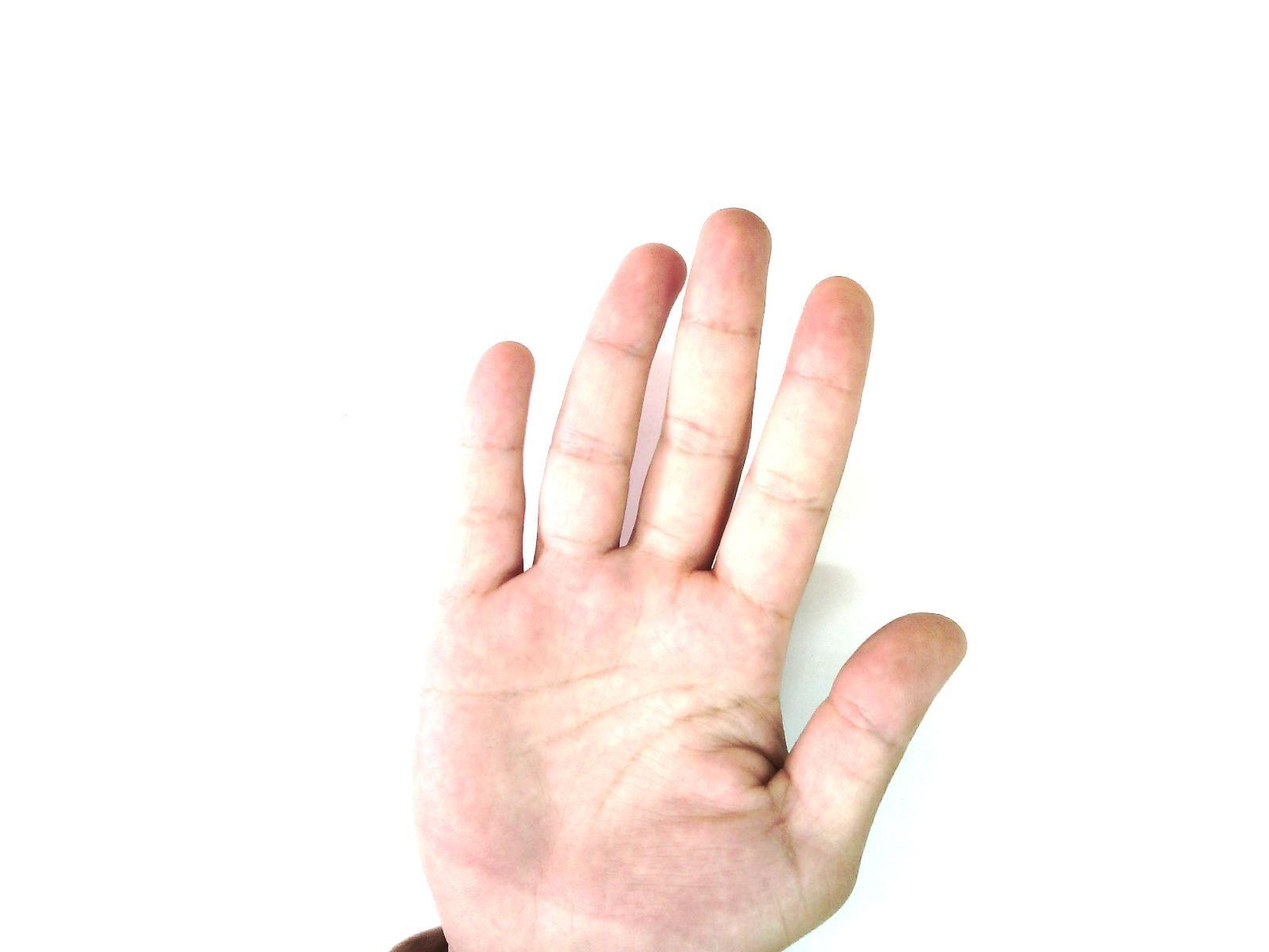open_palm: (406, 206, 969, 952)
